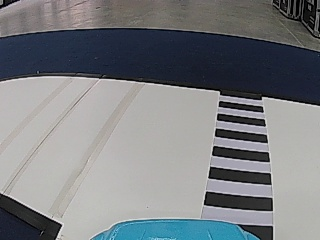CrossWalk: (201, 94, 275, 223)
